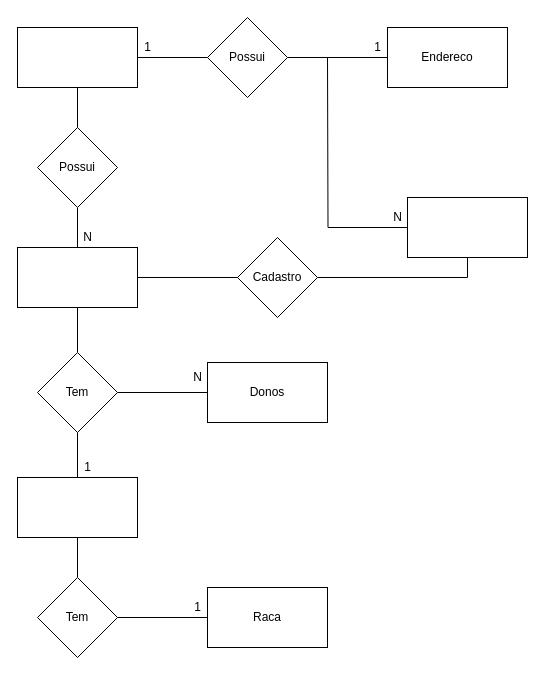
The diagram is 545 pixels wide and 675 high, and some of its shapes have lost their labels. Each missing label, with the box of its shape:
Clinica: (16, 26, 138, 88)
Pets: (16, 246, 138, 308)
Tipo: (16, 476, 138, 538)
Veterinarios: (406, 196, 528, 258)
